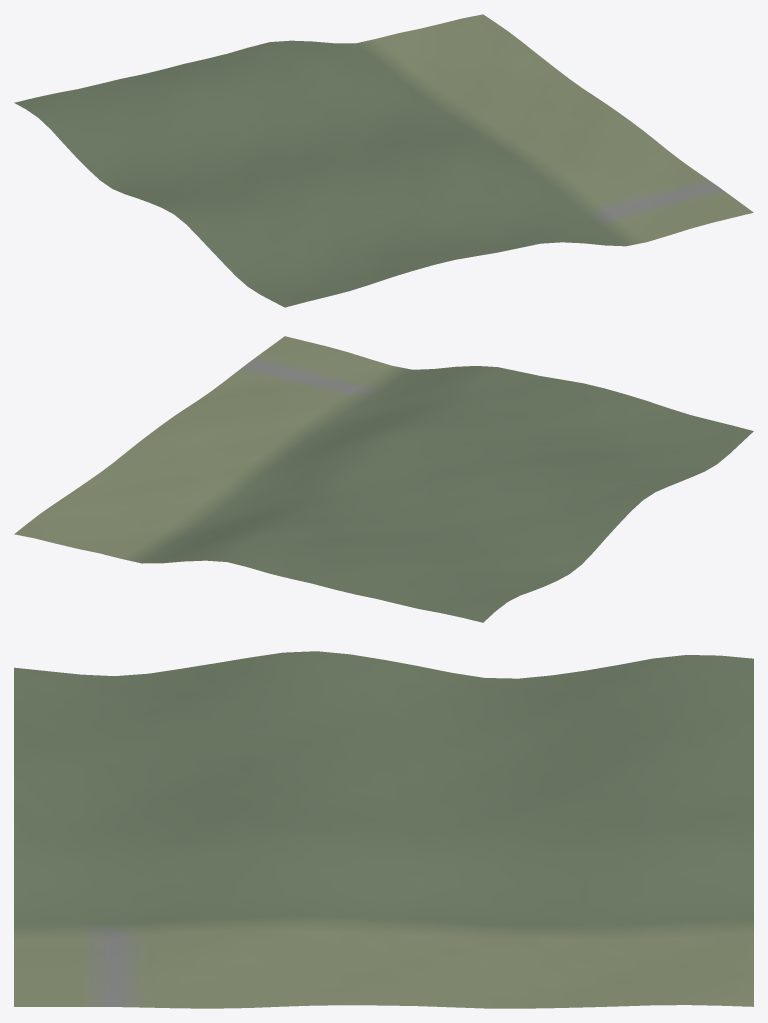
The model's file is q0_coarse.glb.
The picture shows the model from 3 angles, top to bottom: view 1: azimuth 30°, elevation 25°; view 2: azimuth 150°, elevation 25°; view 3: azimuth 270°, elevation 25°; orthographic projection. The views are drawn at different scales.
Bounding box in the file's own units: 600 × 42.68 × 600.
